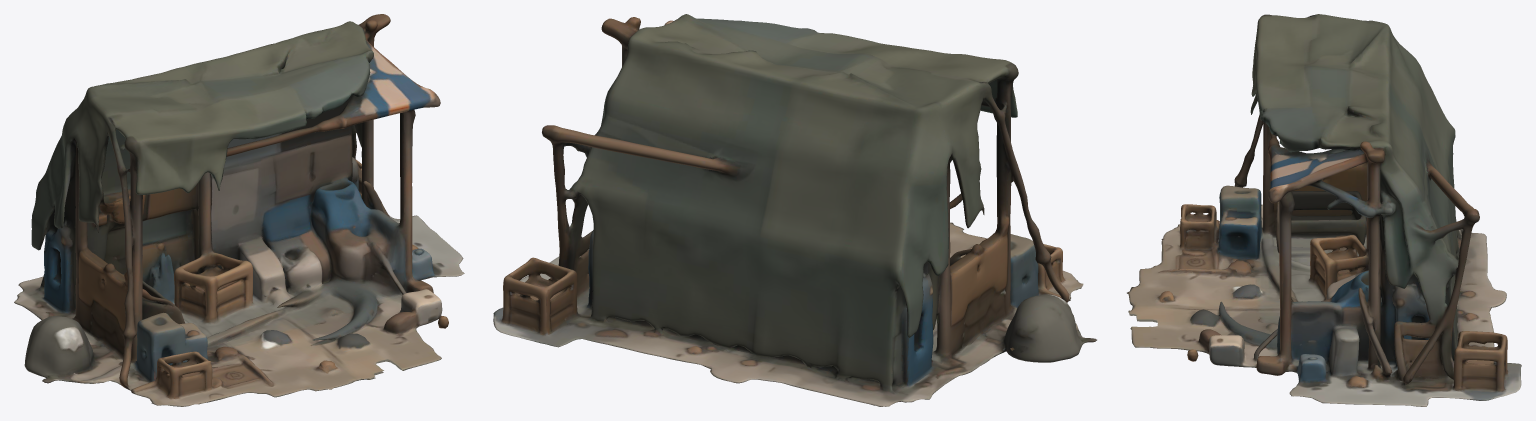
Rendered from SM_Environment_CampingTentShelter_01.fbx.
3 renders of one model, left to right at view 1: azimuth 30°, elevation 25°; view 2: azimuth 150°, elevation 25°; view 3: azimuth 270°, elevation 25°, orthographic. The views are drawn at different scales.
Parts seen in each view (by area): view 1: SM_Environment_CampingTentShelter_01; view 2: SM_Environment_CampingTentShelter_01; view 3: SM_Environment_CampingTentShelter_01.
Boxes of the visible parts, <box> form: SM_Environment_CampingTentShelter_01: <box>14,14,464,406</box>; SM_Environment_CampingTentShelter_01: <box>493,14,1096,406</box>; SM_Environment_CampingTentShelter_01: <box>1127,14,1521,406</box>.
Size of the model in its own units: 0.9914 by 0.5039 by 0.7817.
Materials: 1 (1 with a texture image).
